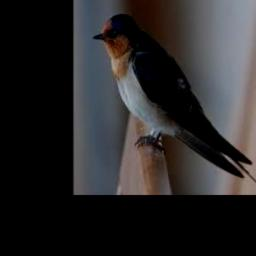Swallow: (92, 13, 256, 191)
